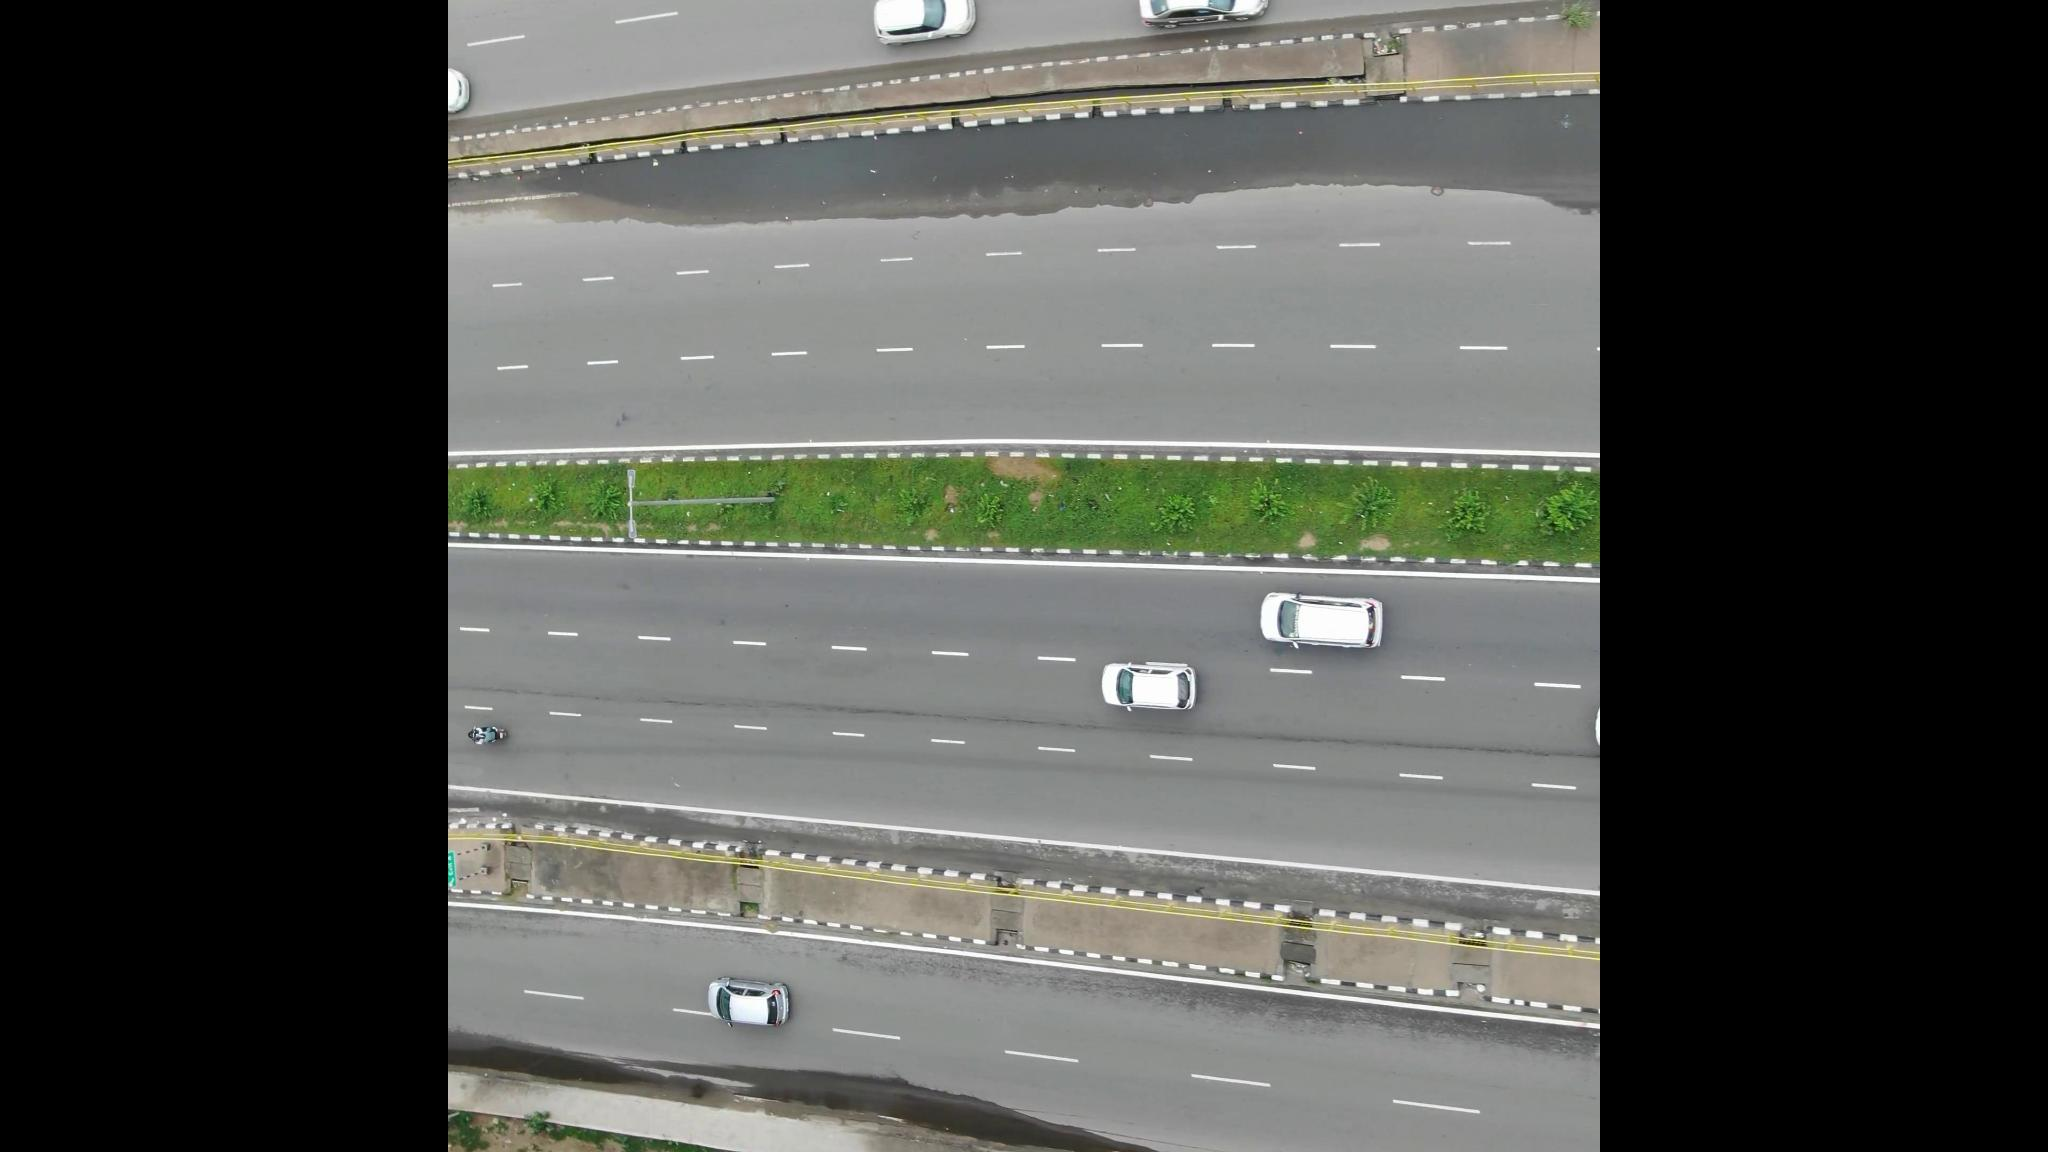Waterlogging: (1018, 90, 1599, 241), (546, 110, 1004, 241), (758, 1058, 947, 1144), (949, 1090, 1191, 1152)
